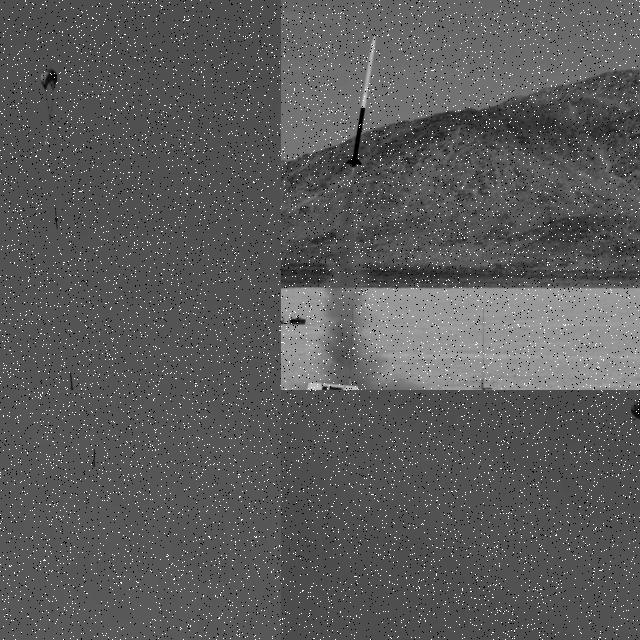Rocket: (346, 34, 377, 168), (69, 372, 74, 390), (93, 449, 95, 467)
